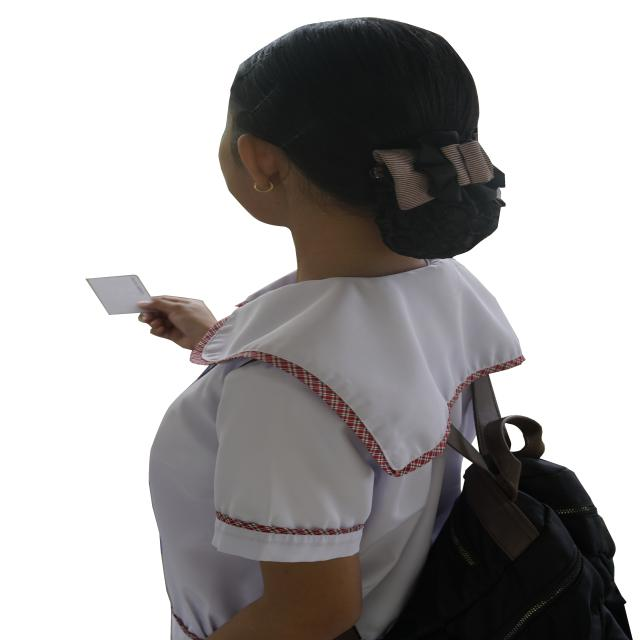pologirl: (149, 259, 523, 640)
